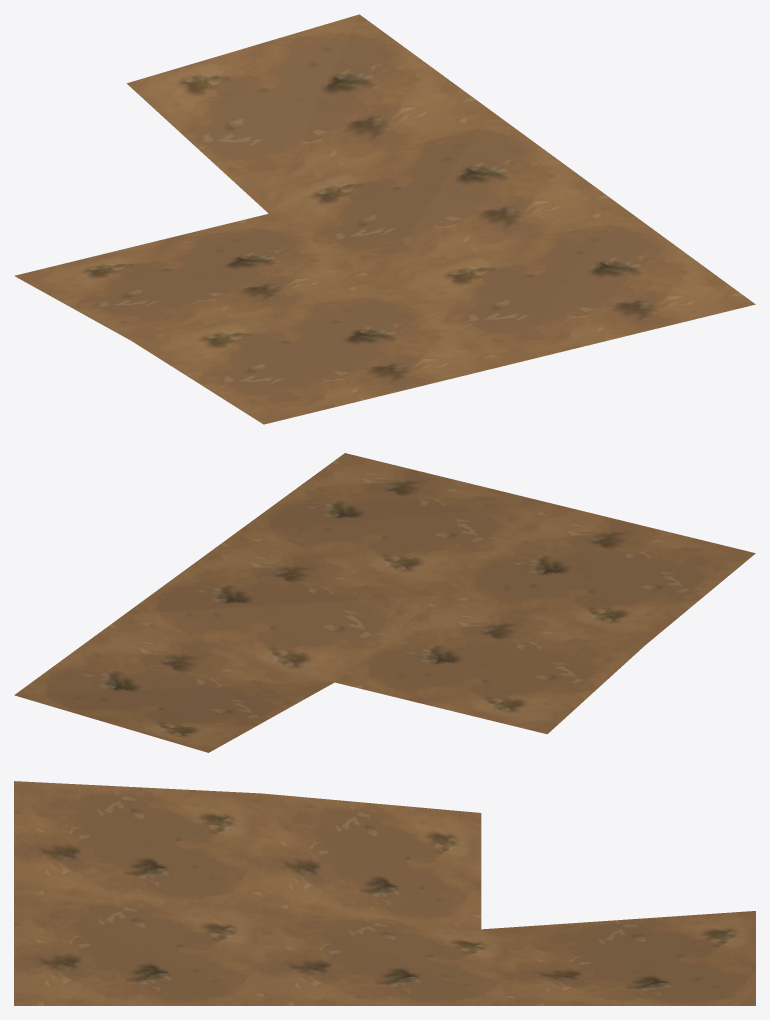
The picture shows the model from 3 angles, top to bottom: view 1: azimuth 30°, elevation 25°; view 2: azimuth 150°, elevation 25°; view 3: azimuth 270°, elevation 25°; orthographic projection. The views are drawn at different scales.
Visible parts, largest first — view 1: Object17; view 2: Object17; view 3: Object17.
Part boxes in pixels (bbox=[...]): Object17: bbox=[14, 14, 755, 424]; Object17: bbox=[14, 453, 755, 752]; Object17: bbox=[14, 781, 755, 1005].
Size of the model in its own units: 4598 by 304 by 6415.
1 material, 1 textured.
